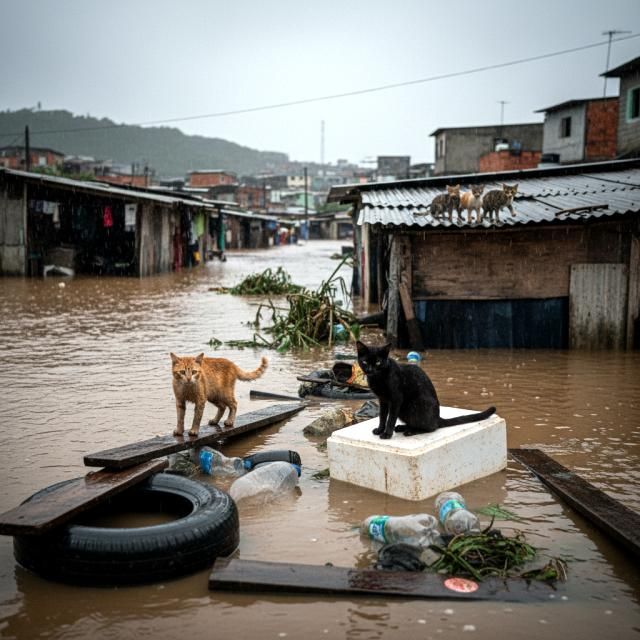cat: (349, 340, 491, 452), (163, 342, 271, 433), (484, 180, 530, 221), (423, 182, 463, 228), (462, 183, 489, 227)
